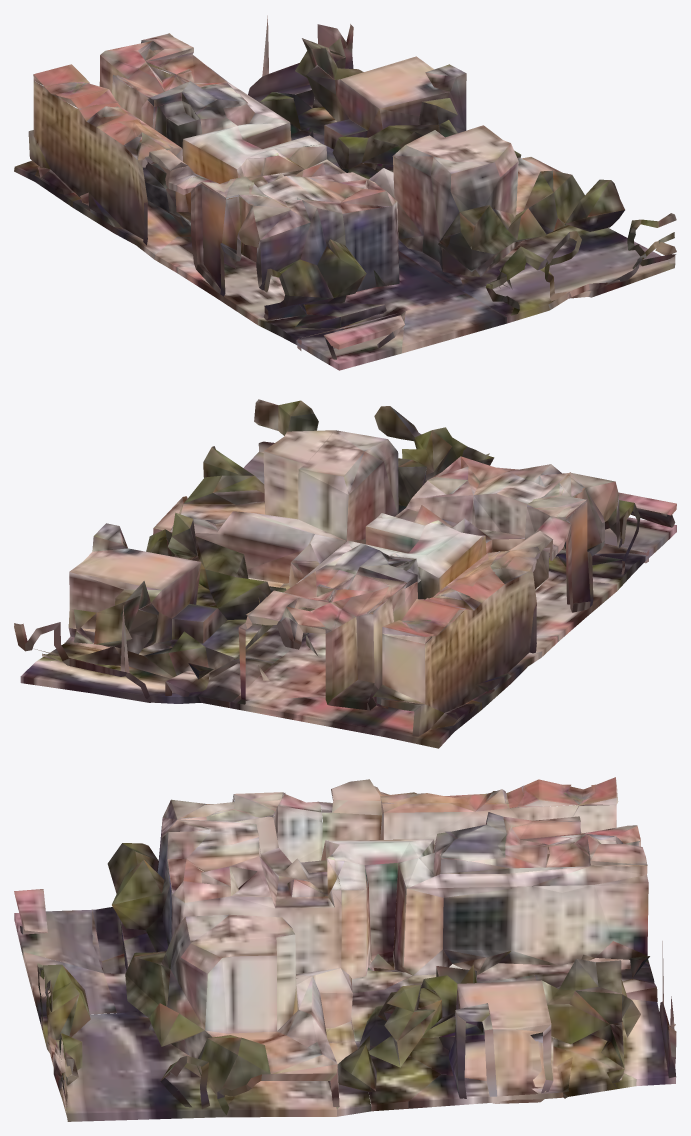
3 renders of one model, top to bottom at view 1: azimuth 30°, elevation 25°; view 2: azimuth 150°, elevation 25°; view 3: azimuth 270°, elevation 25°, orthographic. The views are drawn at different scales.
Parts seen in each view (by area): view 1: Mesh_0; view 2: Mesh_0; view 3: Mesh_0.
Boxes of the visible parts, x1,y1,x2,y2 form: Mesh_0: (14,15,676,370); Mesh_0: (14,399,676,748); Mesh_0: (14,777,676,1121).
Size of the model in its own units: 134 by 37.98 by 165.
1 material, 1 textured.
